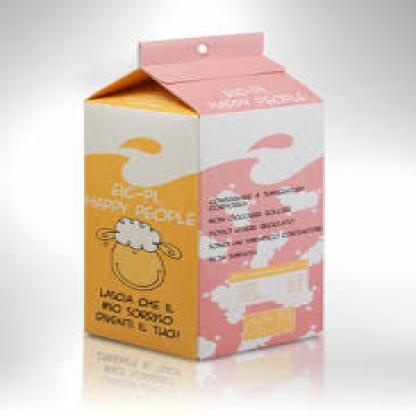trash: (84, 33, 323, 358)
